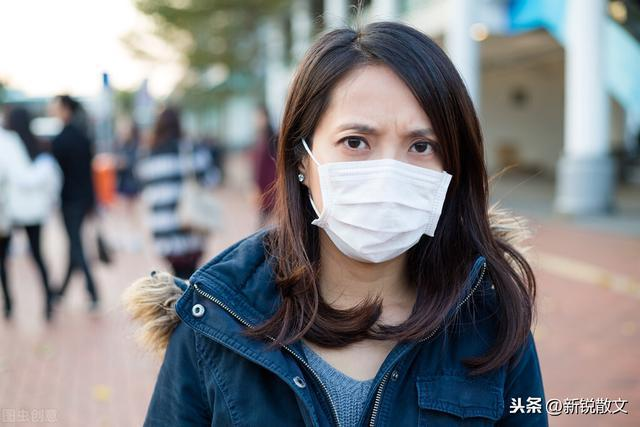mask: (305, 59, 452, 262)
